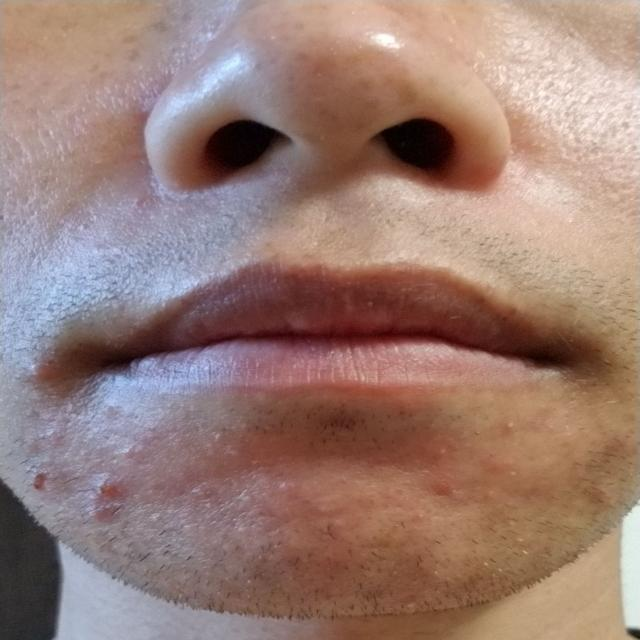Acne: (396, 419, 538, 529), (19, 454, 182, 545)
